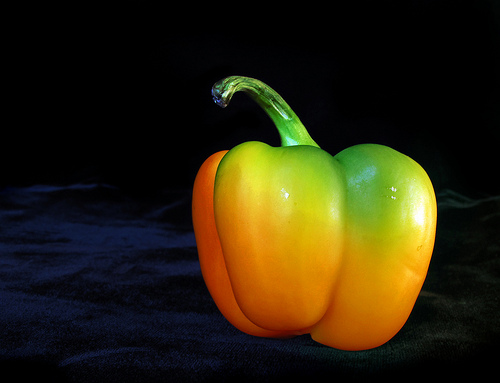capsicum: (189, 75, 441, 353)
